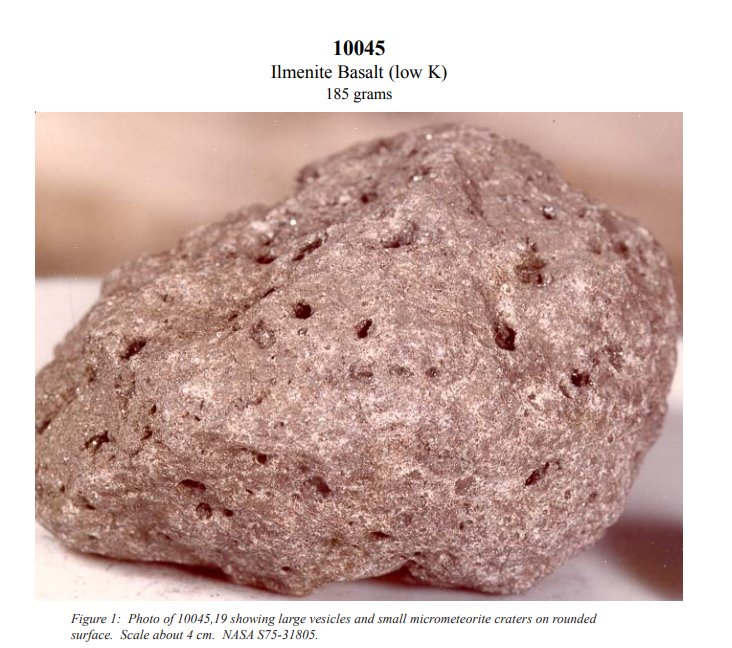Basalt: (32, 114, 681, 598)
